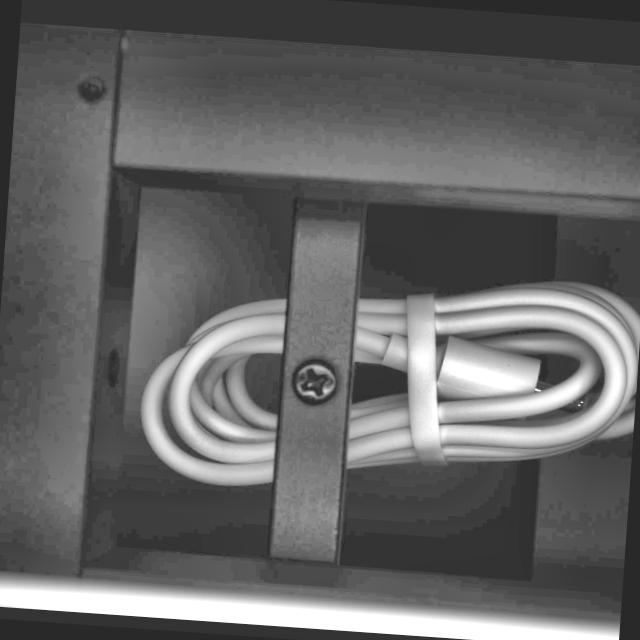Cable: (133, 244, 640, 517)
